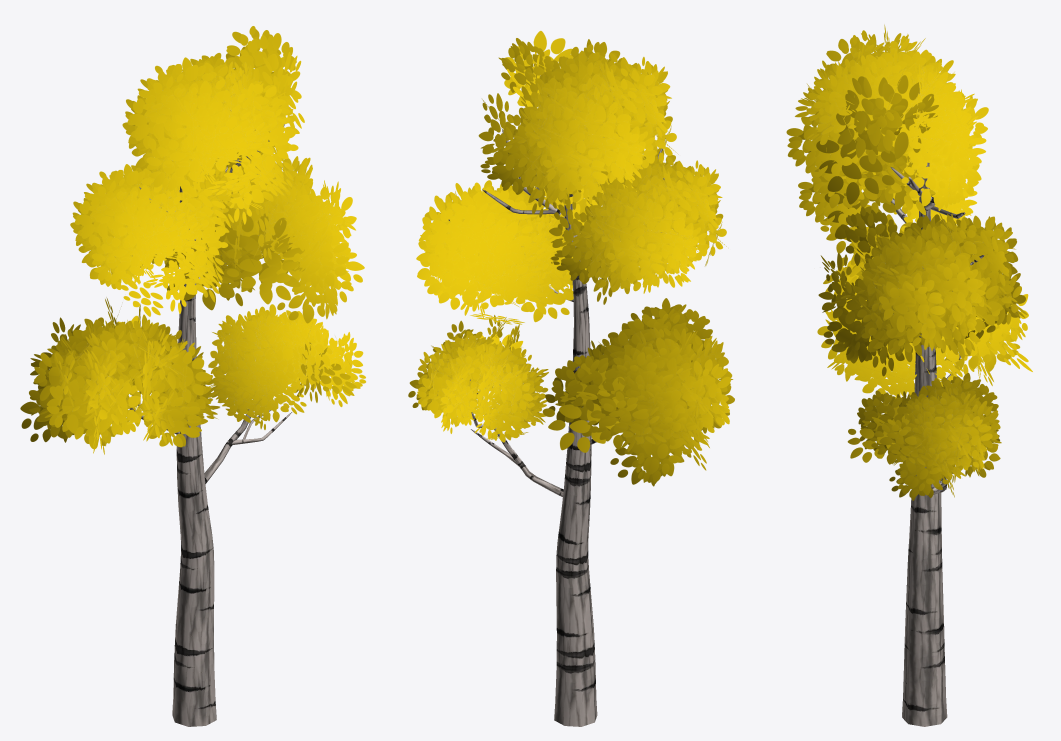
Rendered from birch_1.glb.
The picture shows the model from 3 angles, left to right: view 1: azimuth 30°, elevation 25°; view 2: azimuth 150°, elevation 25°; view 3: azimuth 270°, elevation 25°; orthographic projection. The views are drawn at different scales.
Size of the model in its own units: 2.71 by 5.45 by 1.94.
Materials: 2 (2 with a texture image).
